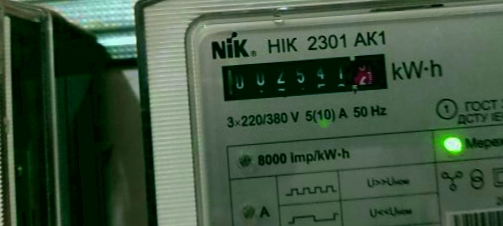0: (230, 69, 244, 91), (251, 66, 264, 88)
1: (331, 59, 344, 82)
2: (270, 64, 286, 86)
4: (311, 60, 324, 82)
5: (290, 62, 305, 86)
6: (354, 73, 366, 86)
screen: (206, 43, 398, 110)
